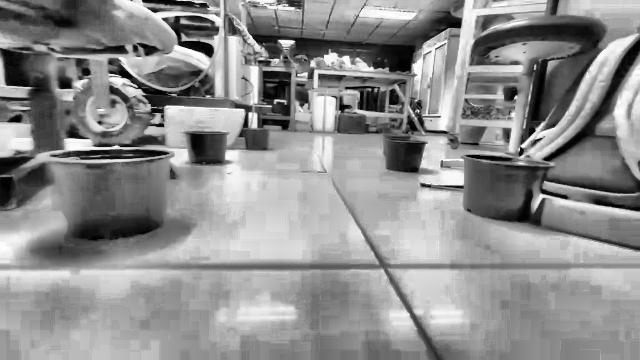pot: (41, 148, 173, 241), (462, 154, 553, 221), (184, 131, 227, 163), (387, 140, 425, 172), (243, 128, 269, 150)
